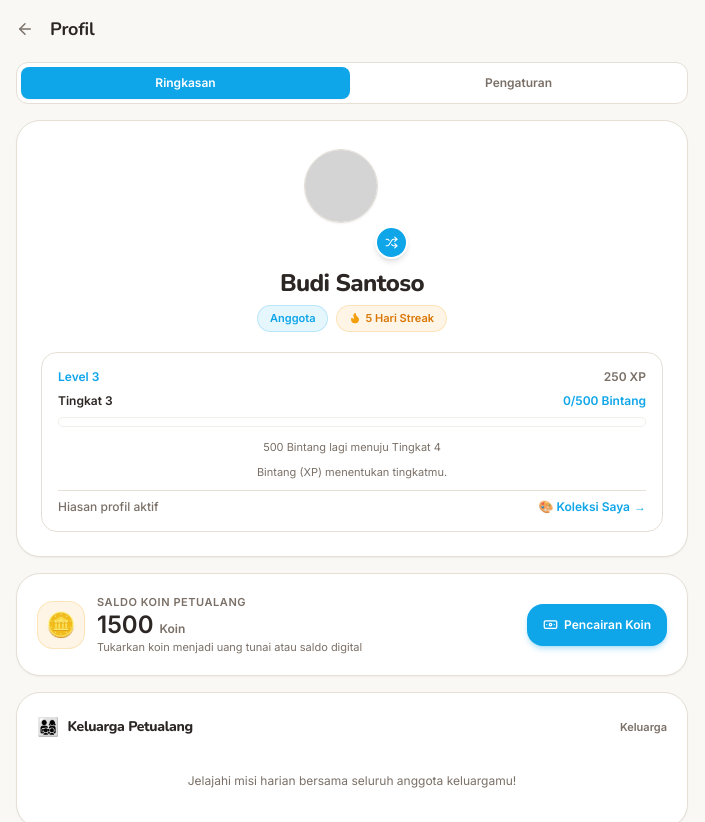
ProfilePage › Member / Seeker Role View › renders change password form in settings and submits successfully
The width and height of the screenshot is (705, 822).
Click the button "Pengaturan" at (518, 83), box [354, 67, 683, 99]
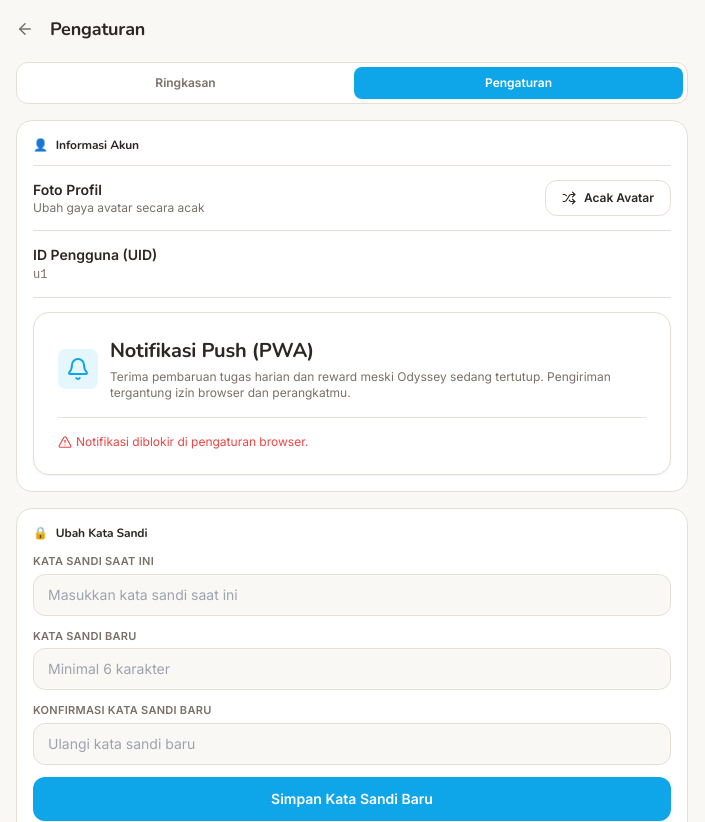
Result: the heading "🔒 Ubah Kata Sandi" is shown at [33, 525, 147, 541]
Type "oldPass123" into the password field with placeholder "Masukkan kata sandi saat ini" at (352, 594), box [33, 574, 671, 616]
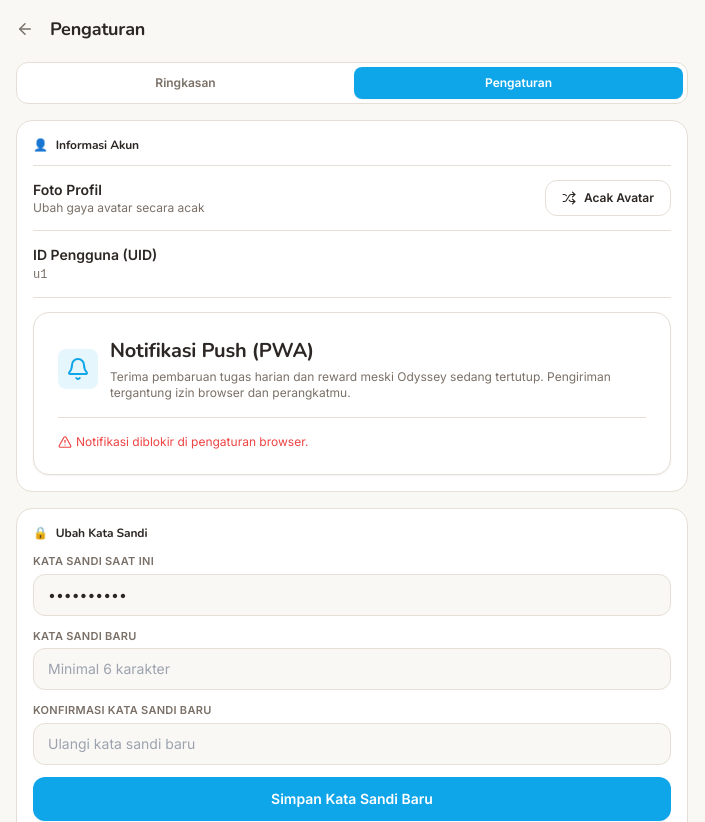
Type "newPass456" into the password field with placeholder "Minimal 6 karakter" at (352, 669), box [33, 648, 671, 690]
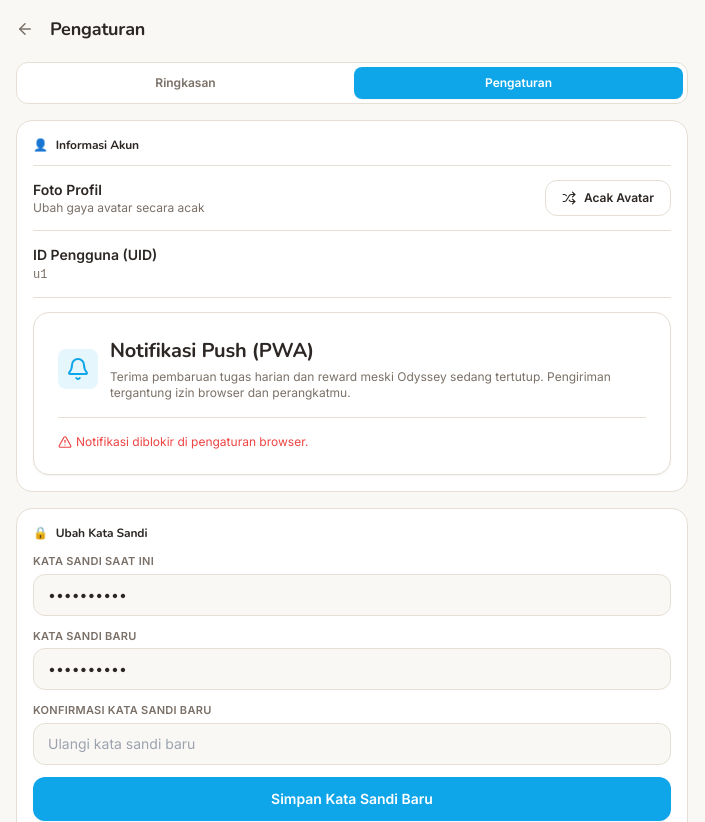
Type "newPass456" into the password field with placeholder "Ulangi kata sandi baru" at (352, 744), box [33, 722, 671, 764]
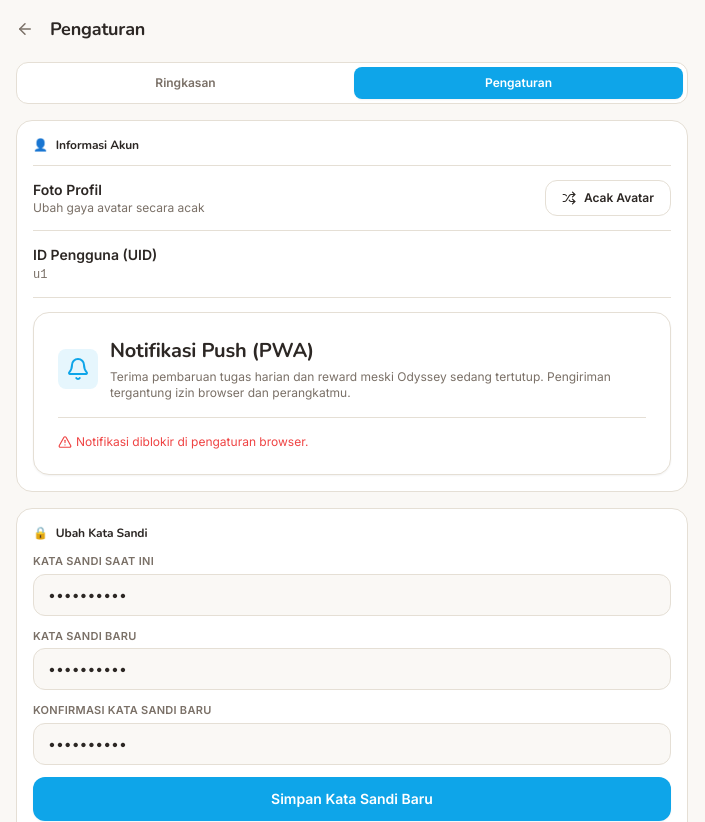
Click the button "Simpan Kata Sandi Baru" at (352, 798), box [33, 776, 671, 820]
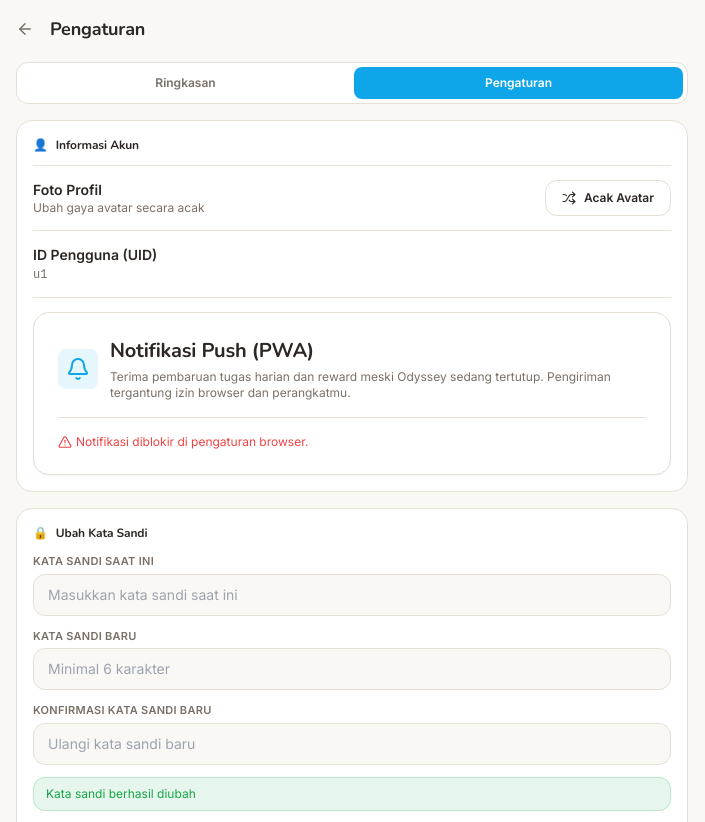
Result: the text "Kata sandi berhasil diubah" is shown at [33, 776, 671, 810]
